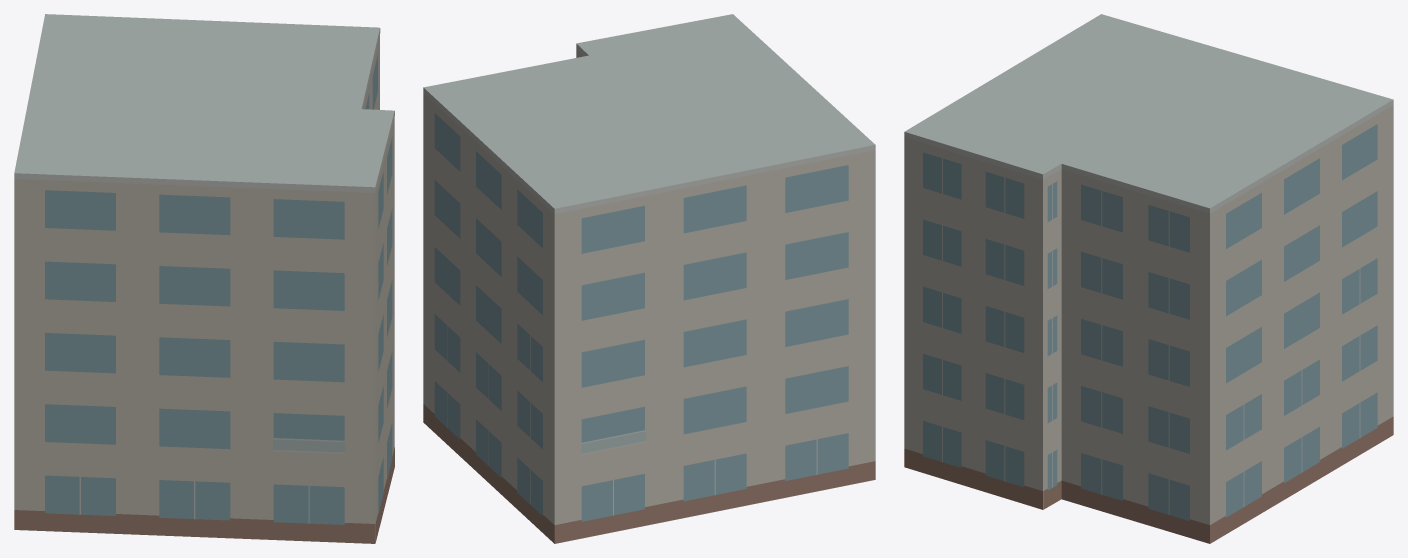
File: survey-upis-32759365.glb
3 views of the same model, side by side, from view 1: azimuth 30°, elevation 25°; view 2: azimuth 150°, elevation 25°; view 3: azimuth 270°, elevation 25° (orthographic). The views are drawn at different scales.
Parts seen in each view (by area): view 1: survey-upis-32759365.tmp; view 2: survey-upis-32759365.tmp; view 3: survey-upis-32759365.tmp.
Part boxes in pixels (left/top/right/bottom): survey-upis-32759365.tmp: left=14, top=14, right=394, bottom=543; survey-upis-32759365.tmp: left=423, top=14, right=875, bottom=543; survey-upis-32759365.tmp: left=904, top=14, right=1393, bottom=543.
Size of the model in its own units: 18.96 by 15.25 by 20.16.
